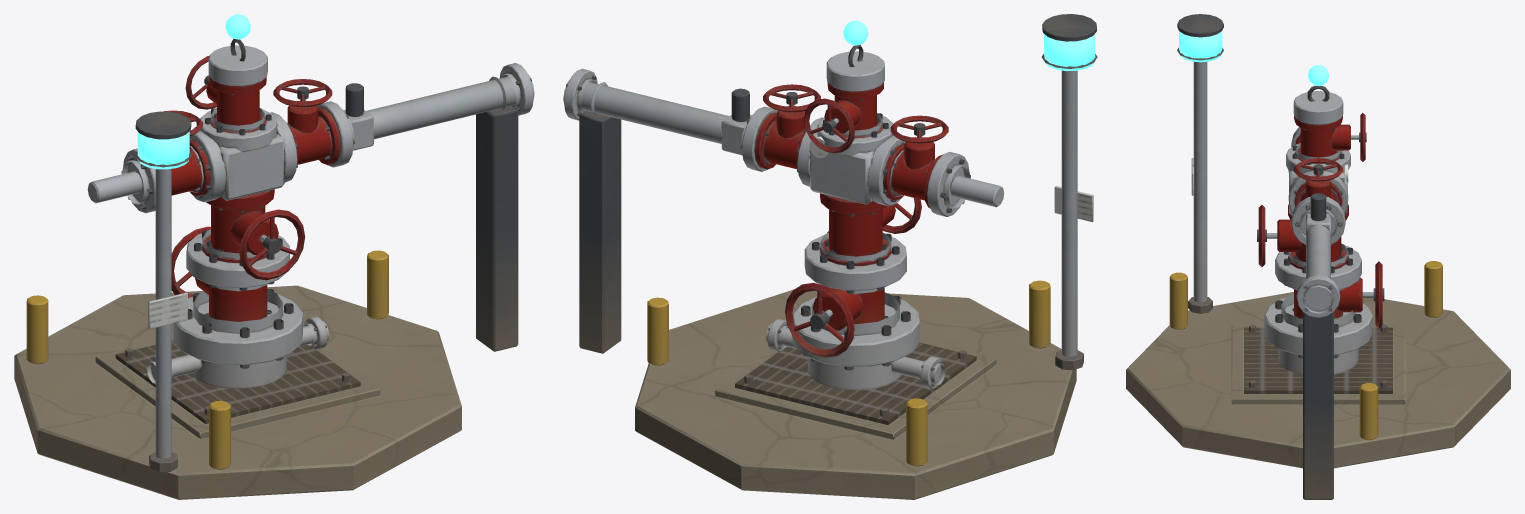
The model's file is wellhead.glb.
The picture shows the model from 3 angles, left to right: view 1: azimuth 30°, elevation 25°; view 2: azimuth 150°, elevation 25°; view 3: azimuth 270°, elevation 25°; orthographic projection. The views are drawn at different scales.
Parts seen in each view (by area): view 1: wellhead_Body, Beacon; view 2: wellhead_Body, Beacon; view 3: wellhead_Body, Beacon.
Boxes of the visible parts, x1,y1,x2,y2 form: wellhead_Body: (14,38,534,499); Beacon: (137,131,189,169); wellhead_Body: (563,14,1097,499); Beacon: (1044,34,1095,71); wellhead_Body: (1126,14,1510,499); Beacon: (1179,31,1222,62).
Bounding box in the file's own units: 1.51 × 1.16 × 1.24.
2 materials, 1 textured.
